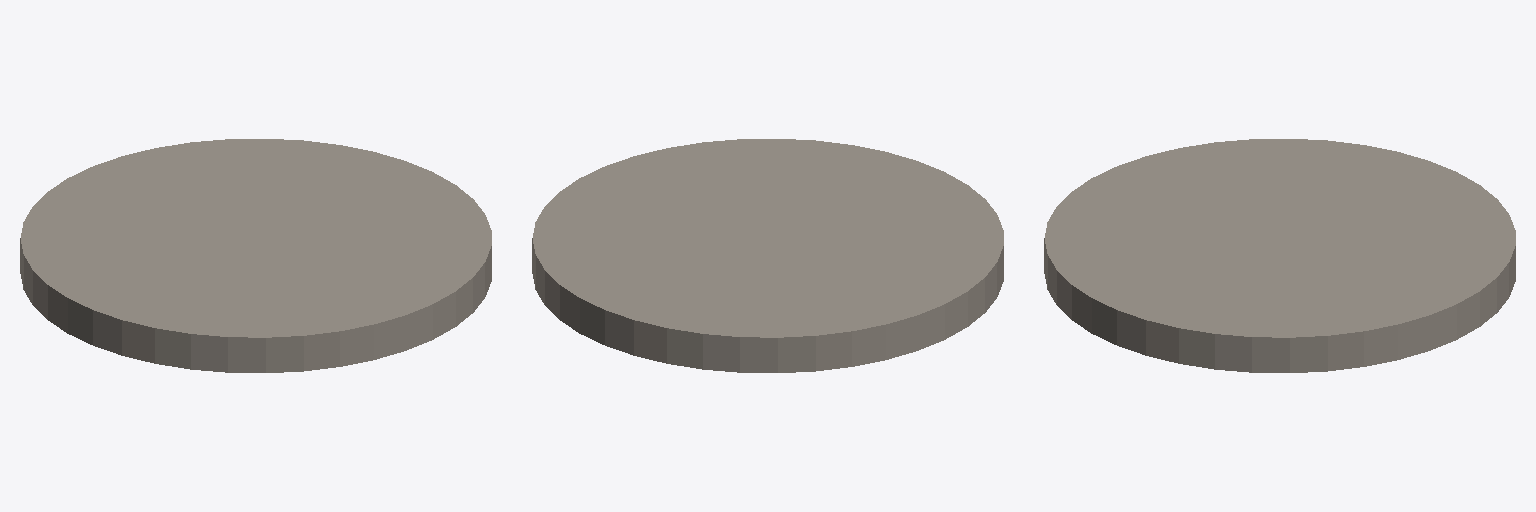
The robot description file, URDF, robot "peg_contact_sensor.SLDPRT":
<robot
  name="peg_contact_sensor.SLDPRT">
  <link
    name="peg_contact_sensor">
    <inertial>
      <origin
        xyz="0 -3.83327897113899E-19 -0.00125"
        rpy="0 0 0" />
      <mass
        value="0.013607" />
      <inertia
        ixx="7.72482045163451E-07"
        ixy="5.84625110278875E-39"
        ixz="4.93033843001852E-40"
        iyy="7.72482045163451E-07"
        iyz="4.64314435858407E-23"
        izz="1.53079010784684E-06" />
    </inertial>
    <visual>
      <origin
        xyz="0 0 0"
        rpy="1.5707963267949 0 0" />
      <geometry>
        <mesh
          filename="package://sawyer_gazebo_env/models/peg_contact_sensor/peg_contact_sensor.STL" />
      </geometry>
      <material
        name="">
        <color
          rgba="0.64706 0.61961 0.58824 1" />
      </material>
    </visual>
    <collision>
      <origin
        xyz="0 0 0"
        rpy="1.5707963267949 0 0" />
      <geometry>
        <mesh
          filename="package://sawyer_gazebo_env/models/peg_contact_sensor/peg_contact_sensor.STL" />
      </geometry>
    </collision>
  </link>
</robot>

--- Render facts (derived) ---
The picture shows the robot from 3 angles, left to right: view 1: azimuth 30°, elevation 25°; view 2: azimuth 150°, elevation 25°; view 3: azimuth 270°, elevation 25°; orthographic projection.
Robot: peg_contact_sensor.SLDPRT — 1 links, 0 joints (none); root link peg_contact_sensor; default pose: every joint at zero.
Links seen in each view (by area): view 1: peg_contact_sensor; view 2: peg_contact_sensor; view 3: peg_contact_sensor.
Link boxes in pixels (x1,y1,x2,y2): peg_contact_sensor: (20, 139, 491, 372); peg_contact_sensor: (532, 139, 1003, 372); peg_contact_sensor: (1044, 139, 1515, 372).
Size in the robot's own frame: 0.03 by 0.03 by 0.0025 metres.
1 mesh visuals loaded from 1 distinct referenced files (1 binary STL).